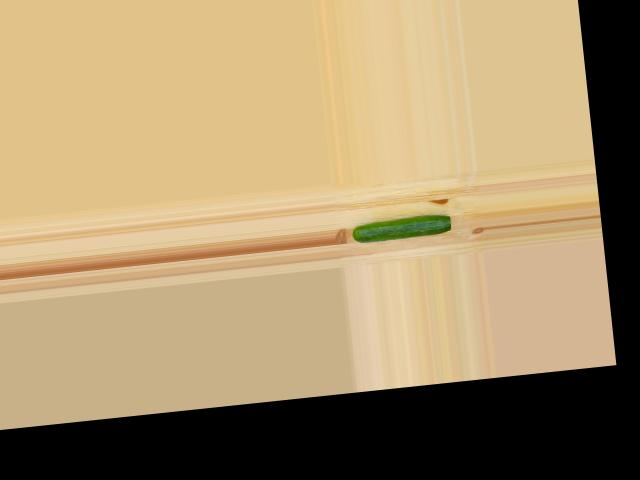cucumber: (351, 213, 451, 243)
